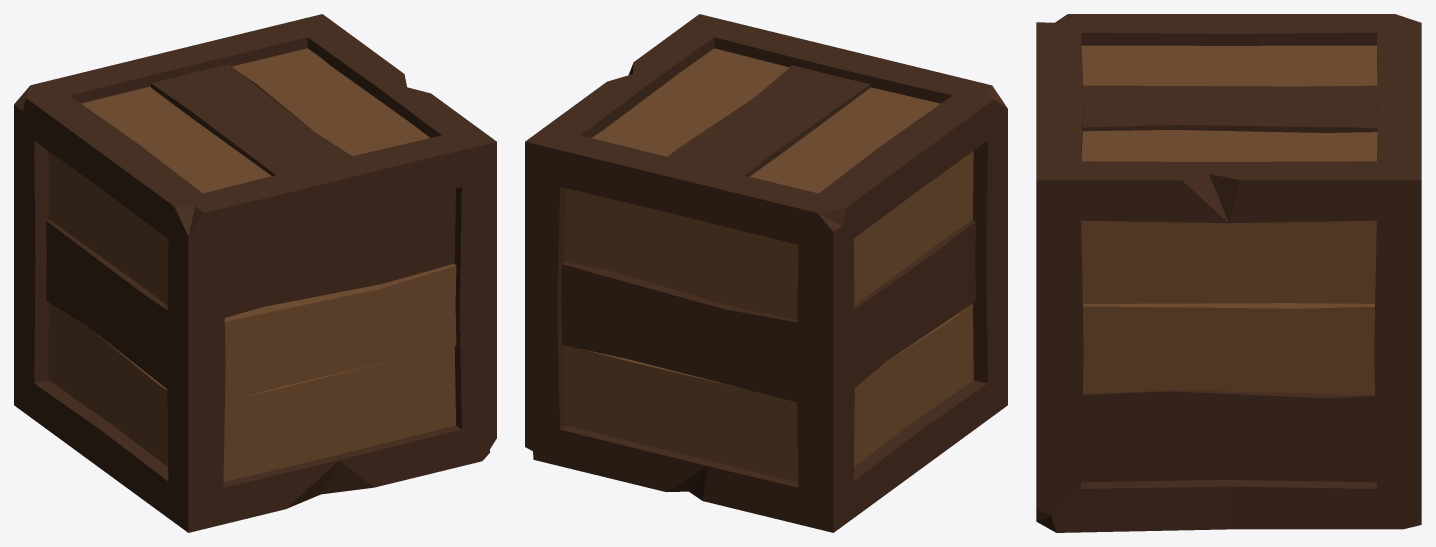
File: WoodenBox03.fbx
The picture shows the model from 3 angles, left to right: view 1: azimuth 30°, elevation 25°; view 2: azimuth 150°, elevation 25°; view 3: azimuth 270°, elevation 25°; orthographic projection. The views are drawn at different scales.
Parts seen in each view (by area): view 1: SM_Wooden_BoxC; view 2: SM_Wooden_BoxC; view 3: SM_Wooden_BoxC.
Boxes of the visible parts, <box> form: SM_Wooden_BoxC: <box>14,14,496,532</box>; SM_Wooden_BoxC: <box>525,14,1007,532</box>; SM_Wooden_BoxC: <box>1036,14,1421,532</box>.
Size of the model in its own units: 0.6588 by 0.6445 by 0.6403.
